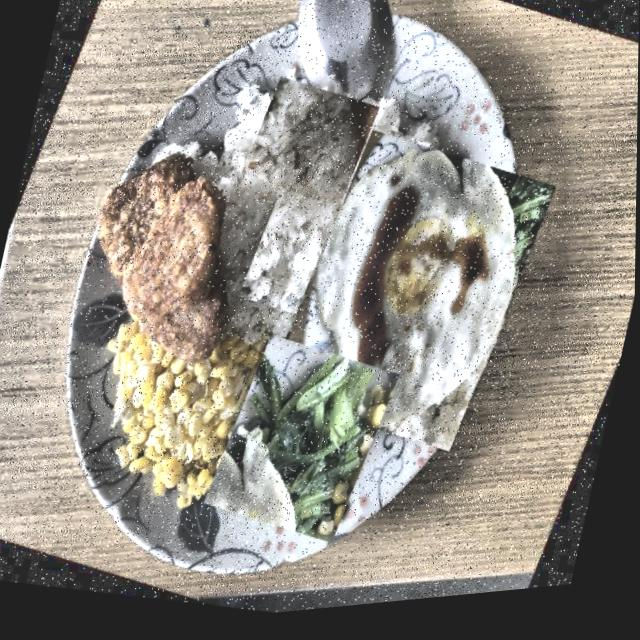Food: (258, 111, 565, 485), (51, 122, 289, 390), (193, 65, 385, 337), (199, 322, 406, 565)
